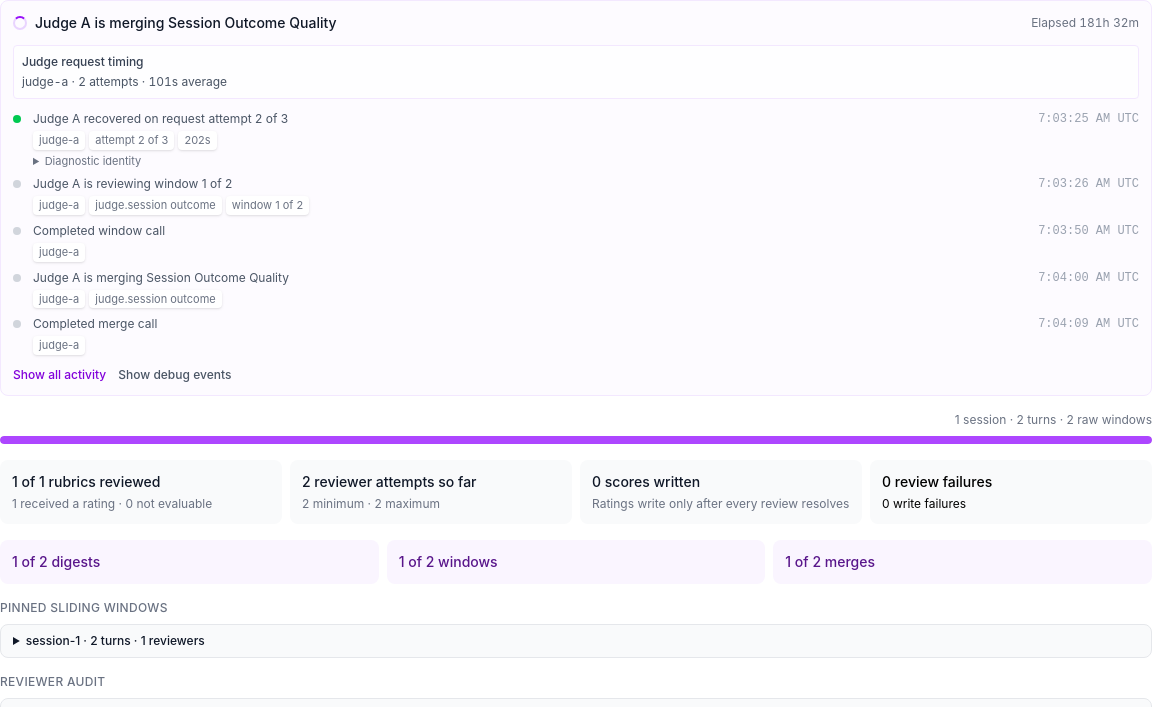
Test: JudgingProgress › shows current narration and a compact expandable activity timeline
Expected: the text "Judge A is merging Session Outcome Quality" is shown, [35, 13, 336, 33]
Expected: the list named "Judging activity" is shown, [13, 111, 1139, 355]
Click the button "Show all activity". click: click(60, 375)
box: [13, 367, 106, 383]
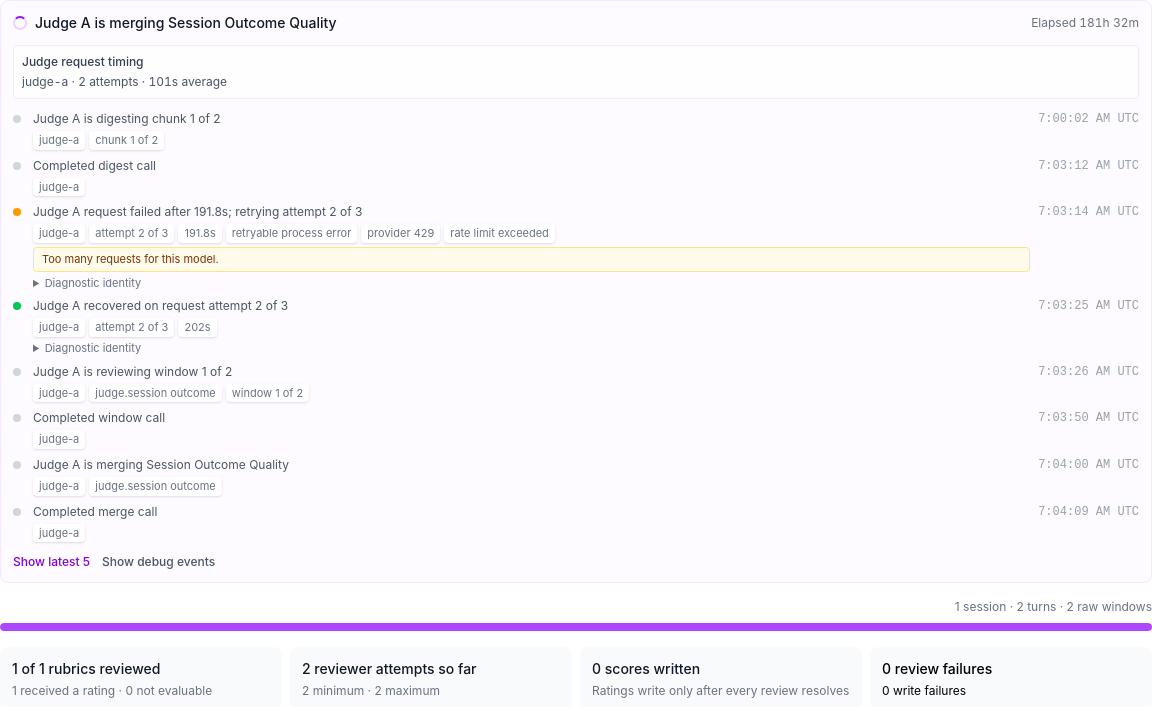
Now the text "Judge A is digesting chunk 1 of 2" is shown, box [33, 111, 221, 126]
Now the text "Completed digest call" is shown, box [33, 158, 156, 173]
Now the text "Judge A request failed after 191.8s; retrying attempt 2 of 3" is shown, box [33, 204, 362, 219]
Click the button "Show debug events". click: click(159, 562)
box: [102, 554, 215, 570]
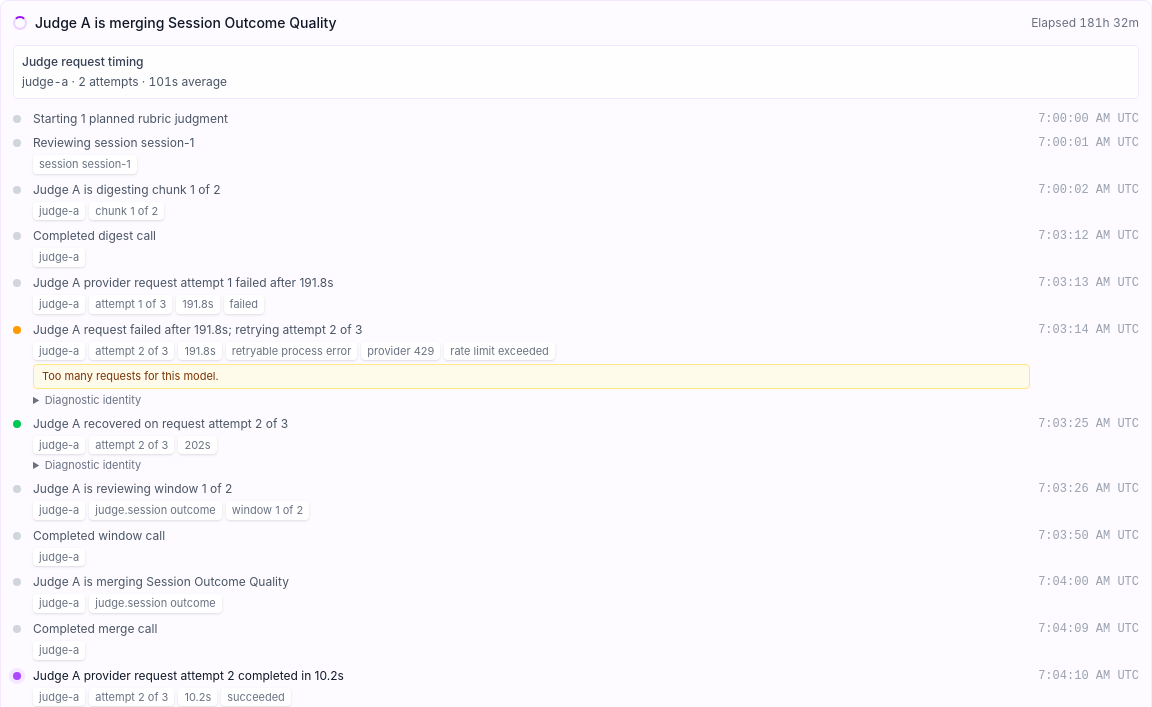
Now the text "Starting 1 planned rubric judgment" is shown, box [33, 111, 228, 126]
Now the text "Judge A provider request attempt 2 completed in 10.2s" is shown, box [33, 668, 344, 682]
